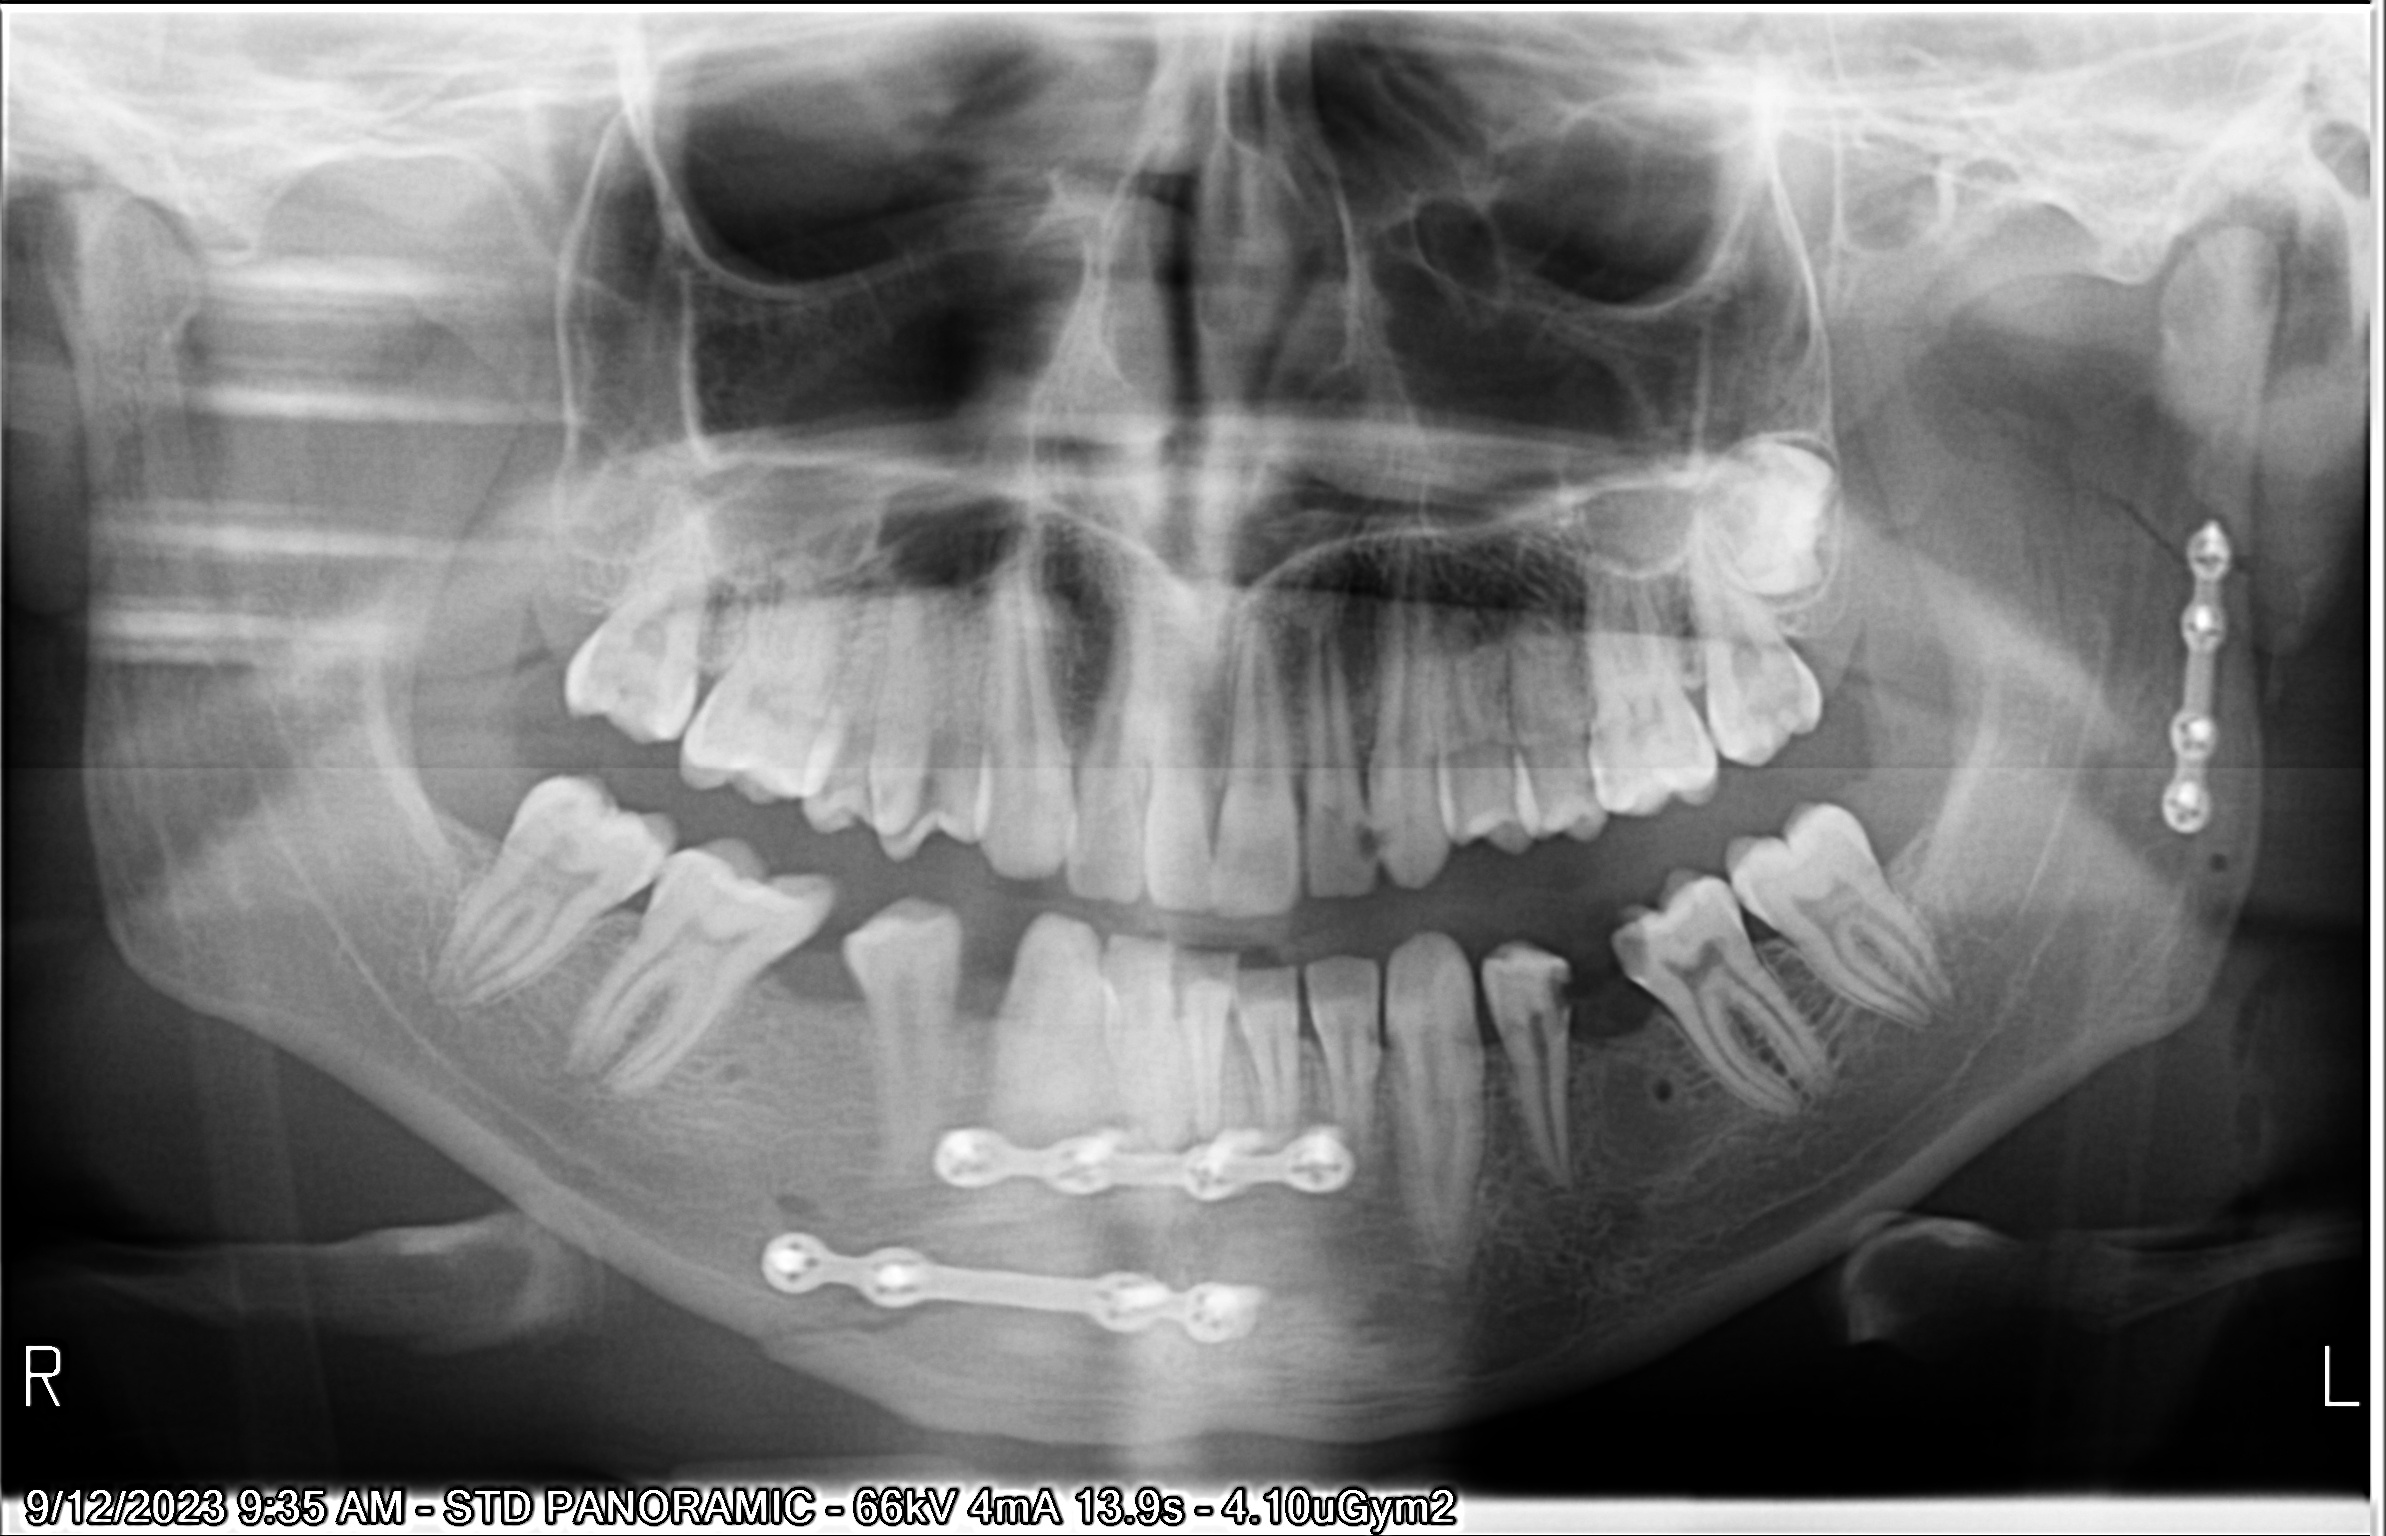CAR: (1750, 651, 1826, 753), (1600, 908, 1668, 985), (1523, 957, 1598, 1025), (1327, 812, 1400, 877)
IMT: (1694, 411, 1883, 642)
SRD: (718, 1185, 1297, 1395), (890, 1101, 1395, 1251)
